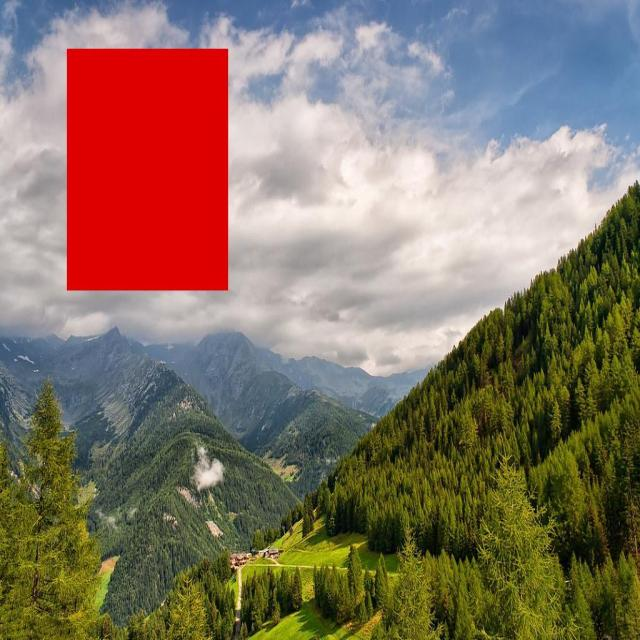RedSquare: (61, 38, 237, 300)
